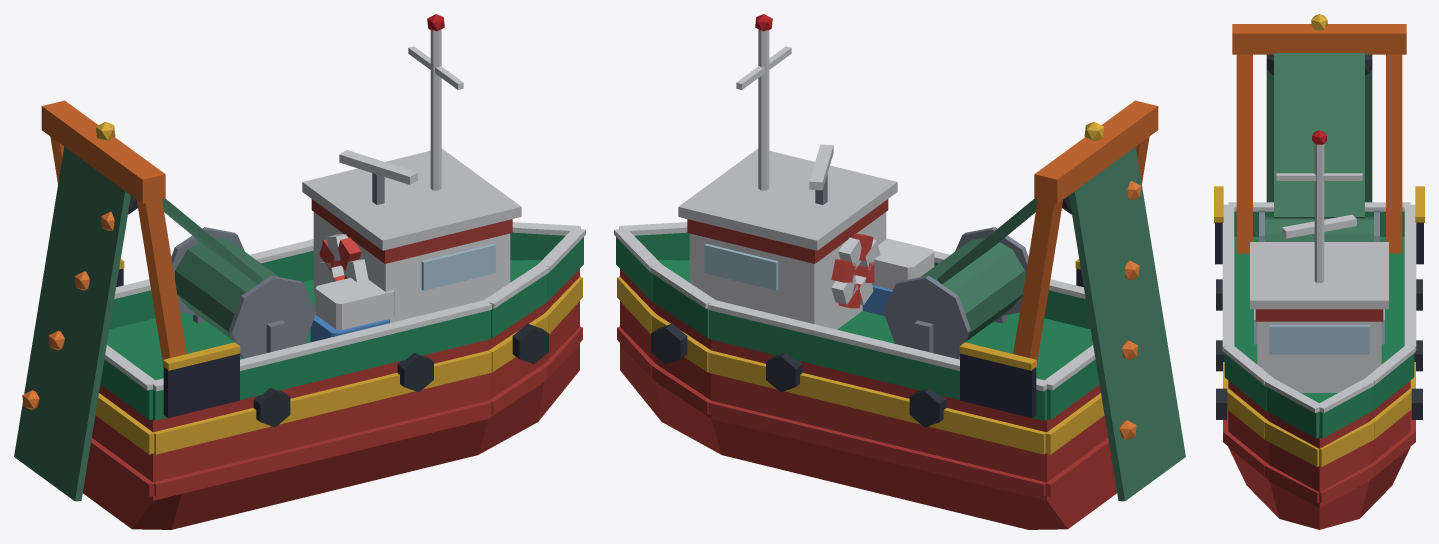
File: boat_trawler.glb
3 views of the same model, side by side, from view 1: azimuth 30°, elevation 25°; view 2: azimuth 150°, elevation 25°; view 3: azimuth 270°, elevation 25° (orthographic). The views are drawn at different scales.
Parts seen in each view (by area): view 1: boat_trawler; view 2: boat_trawler; view 3: boat_trawler.
Part boxes in pixels (x1,y1,x2,y2): boat_trawler: [14, 14, 585, 529]; boat_trawler: [614, 14, 1185, 529]; boat_trawler: [1214, 14, 1424, 529].
Bounding box in the file's own units: 5.63 × 4.09 × 2.2.
